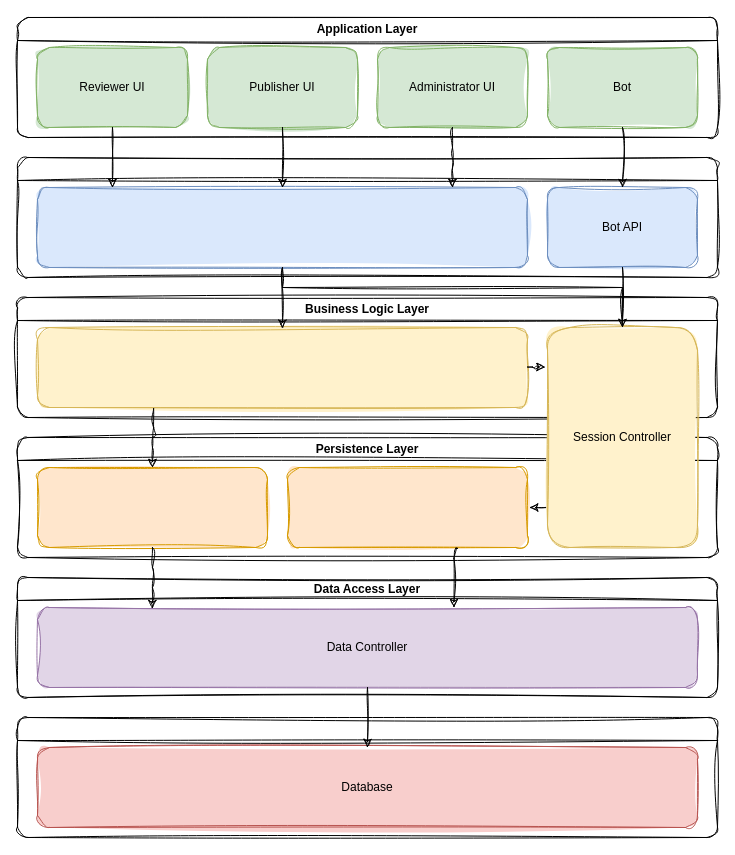
Some shapes in this 735 by 855 pixel diagram are drawn without their labels. Here are the shapes that lost their labels. From the top down, the box of each, then its label:
(36, 186, 528, 268): REST API
(16, 156, 718, 278): Presentation Layer
(36, 326, 528, 408): Document Controller
(36, 466, 268, 548): Encryption Controller
(286, 466, 528, 548): User Controller
(16, 716, 718, 838): Physical Layer
